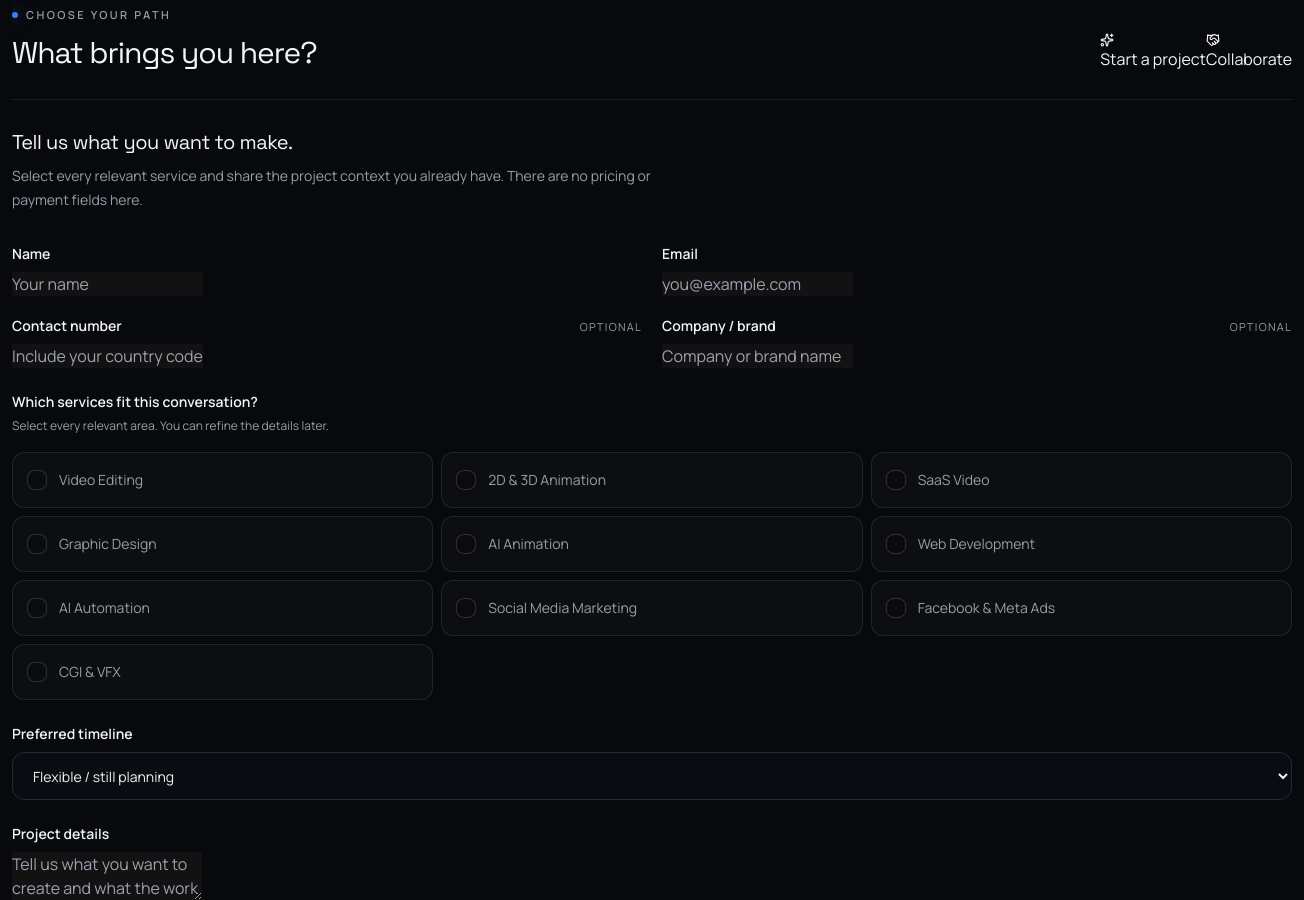
Test: contact and inquiry journeys › switches to the separate partner journey
Click the tab "Collaborate" at x=1249, y=52, box [1206,33,1292,71]
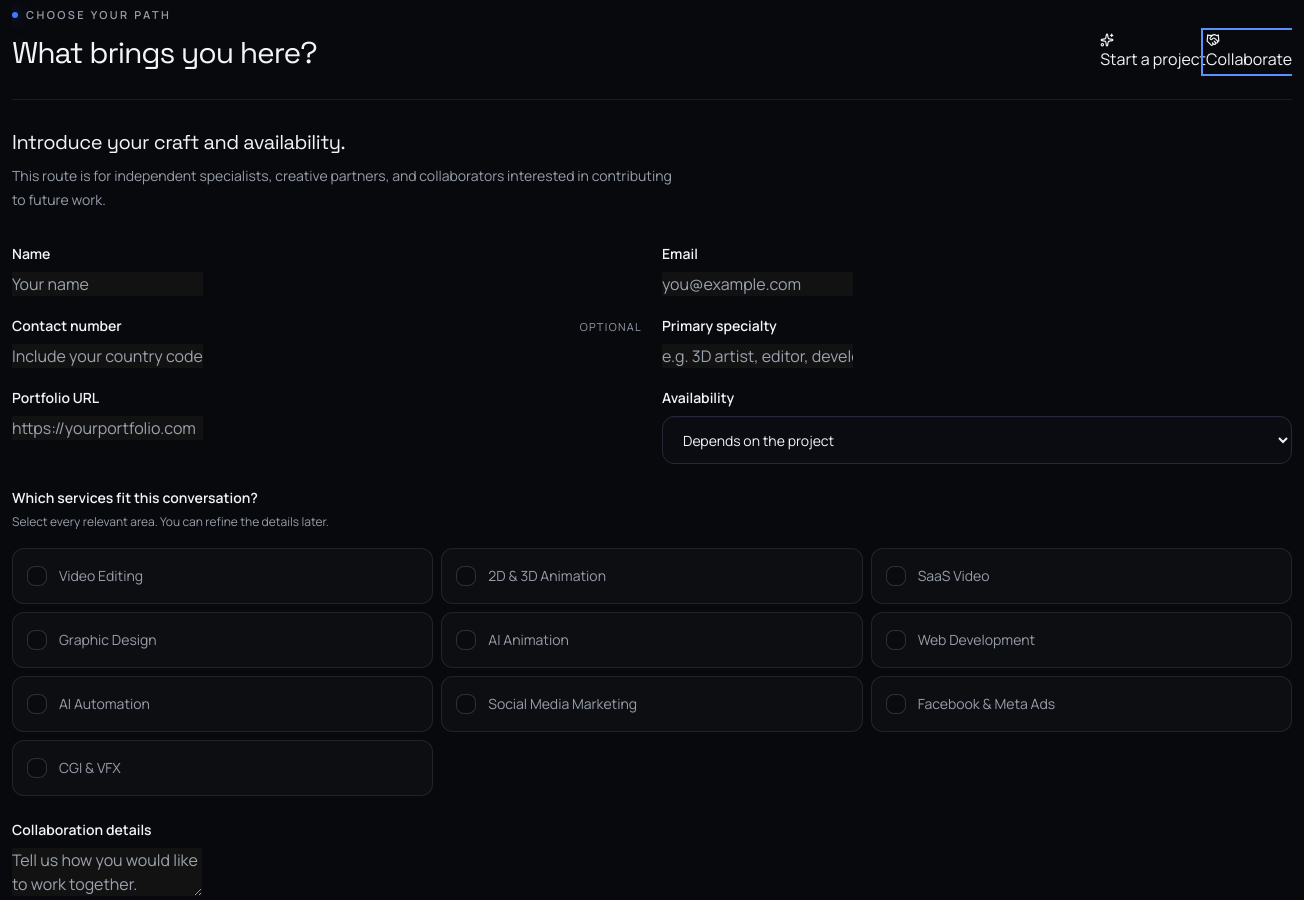
Check: the heading "Introduce your craft and availability." is shown, box [12,129,345,155]
Check: the field labelled "Portfolio URL" is shown, box [12,416,203,440]
Check: the field labelled "Primary specialty" is shown, box [662,344,853,368]
